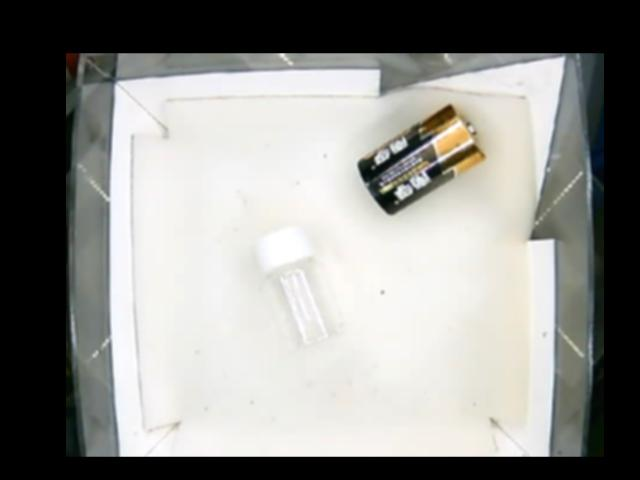Battery: (354, 102, 487, 212)
Bottle: (250, 233, 341, 347)
